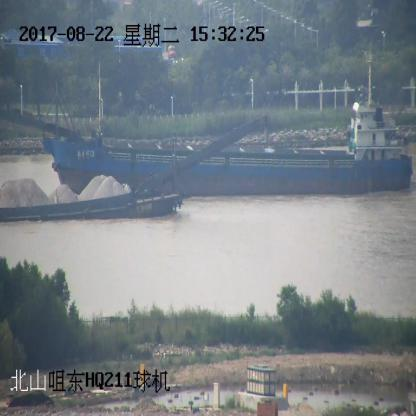Bulk Carrier: (0, 53, 413, 194)
